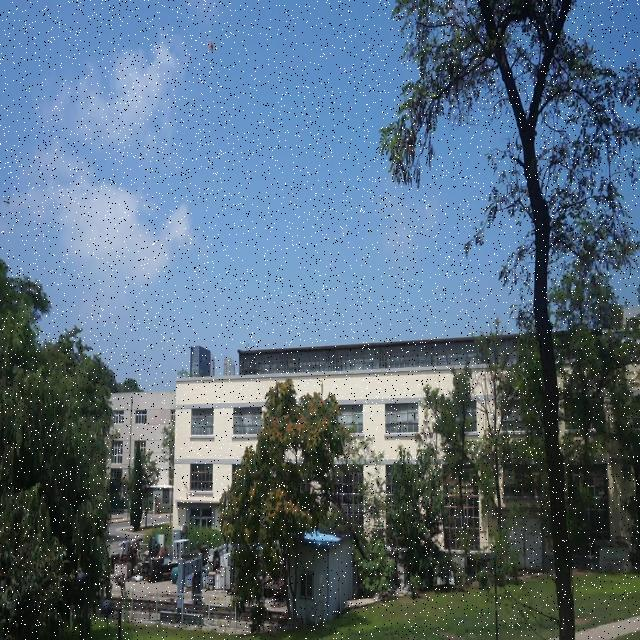UAV: (205, 32, 219, 53)
